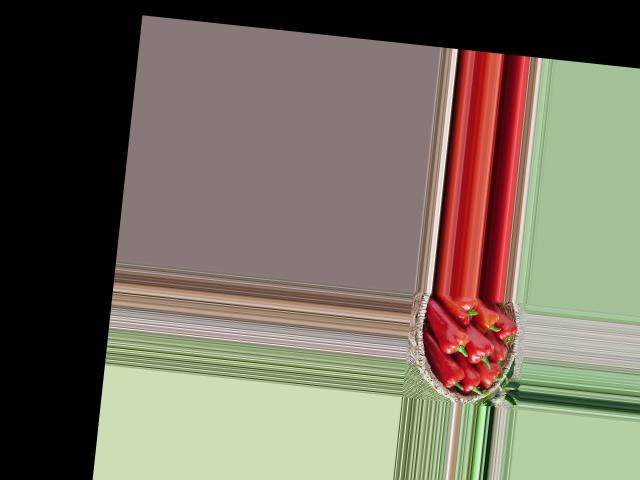bell_pepper: (458, 366, 486, 398)
